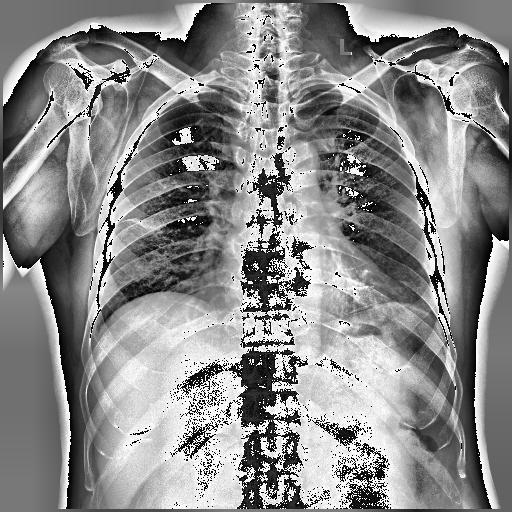0- Aortic enlargement: (278, 140, 317, 196), (276, 140, 319, 181), (276, 138, 318, 172)
11- Pleural thickening: (290, 78, 362, 98), (197, 76, 238, 92), (169, 84, 228, 94)
13- Pulmonary fibrosis: (118, 215, 160, 232), (123, 211, 158, 230), (119, 218, 154, 229)
3- Cardiomegaly: (212, 260, 410, 332), (212, 255, 402, 316), (210, 270, 407, 322)
